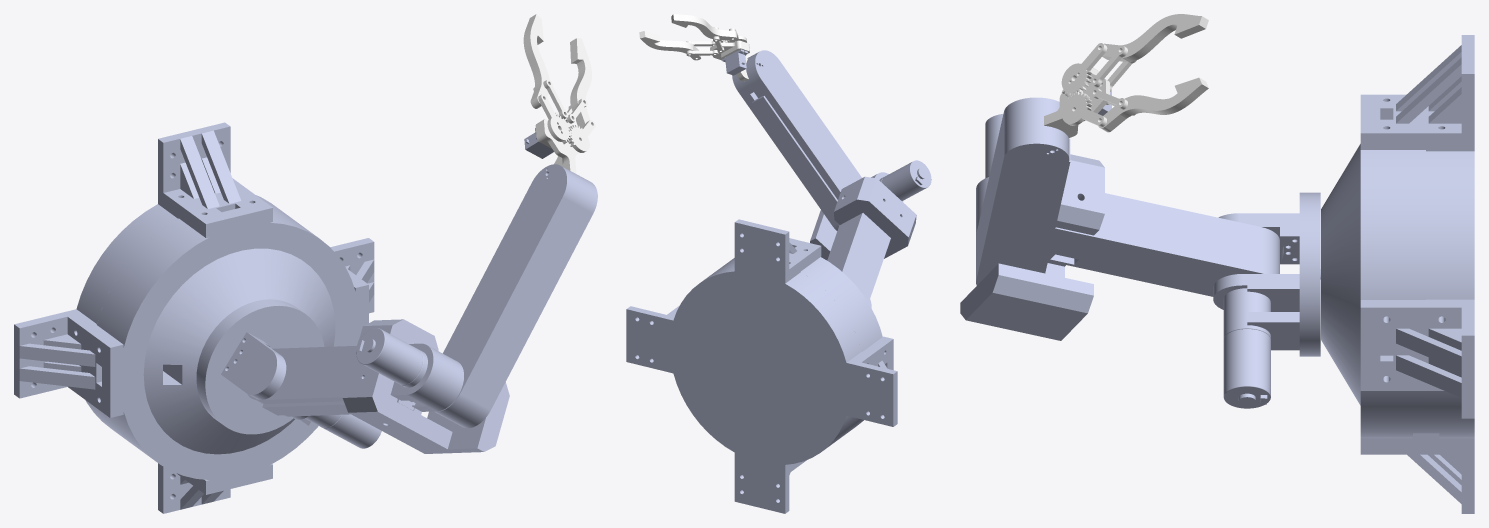
Rendered from Ensamble_Completo_de_diseño.glb.
3 views of the same model, side by side, from view 1: azimuth 30°, elevation 25°; view 2: azimuth 150°, elevation 25°; view 3: azimuth 270°, elevation 25° (orthographic). The views are drawn at different scales.
Parts seen in each view (by area): view 1: Base-1, Brazo tercer grado-1, Ensambles laterales base-4, Base segundo grado de libertad-1, Ensambles laterales base-3, encaje de tercer grado-1, Brazo segundo grado de libertad-1, Base sellado inferior a presion-1, Tapa 2grado-1, Motor con encoder-3, Ensambles laterales base-6, Ensambles laterales base-5 (+6 smaller); view 2: Base sellado inferior a presion-1, Brazo tercer grado-1, encaje de tercer grado-1, Ensambles laterales base-3, Ensambles laterales base-4, Brazo segundo grado de libertad-1, Base-1, Ensambles laterales base-6, Ensambles laterales base-5, Cierre eléctrico-1, Motor con encoder-3, Gripper 1-1 (+3 smaller); view 3: Base-1, Brazo segundo grado de libertad-1, Brazo tercer grado-1, Ensambles laterales base-5, encaje de tercer grado-1, Base sellado inferior a presion-1, Ensambles laterales base-3, Base segundo grado de libertad-1, Motor con encoder-2, Ensambles laterales base-6, Gripper 1-2, Gripper 1-1 (+5 smaller).
Part boxes in pixels (<box>): Base-1: <box>92,209,359,484</box>; Brazo tercer grado-1: <box>434,164,597,428</box>; Ensambles laterales base-4: <box>14,310,119,417</box>; Base segundo grado de libertad-1: <box>196,299,324,434</box>; Ensambles laterales base-3: <box>158,122,272,233</box>; encaje de tercer grado-1: <box>342,319,509,453</box>; Brazo segundo grado de libertad-1: <box>247,343,463,416</box>; Base sellado inferior a presion-1: <box>72,195,289,442</box>; Tapa 2grado-1: <box>221,332,286,399</box>; Motor con encoder-3: <box>355,328,427,387</box>; Ensambles laterales base-6: <box>158,463,272,513</box>; Ensambles laterales base-5: <box>330,238,374,337</box>; Base sellado inferior a presion-1: <box>669,263,864,468</box>; Brazo tercer grado-1: <box>732,50,861,230</box>; encaje de tercer grado-1: <box>810,176,916,260</box>; Ensambles laterales base-3: <box>734,219,821,279</box>; Ensambles laterales base-4: <box>850,337,897,426</box>; Brazo segundo grado de libertad-1: <box>827,172,903,298</box>; Base-1: <box>717,254,885,439</box>; Ensambles laterales base-6: <box>734,456,806,513</box>; Ensambles laterales base-5: <box>626,305,679,372</box>; Cierre eléctrico-1: <box>752,96,839,225</box>; Motor con encoder-3: <box>879,160,931,200</box>; Gripper 1-1: <box>671,14,737,40</box>; Base-1: <box>1321,144,1425,442</box>; Brazo segundo grado de libertad-1: <box>976,177,1279,296</box>; Brazo tercer grado-1: <box>976,97,1069,285</box>; Ensambles laterales base-5: <box>1360,302,1474,418</box>; encaje de tercer grado-1: <box>960,154,1104,340</box>; Base sellado inferior a presion-1: <box>1426,145,1474,442</box>; Ensambles laterales base-3: <box>1360,35,1474,145</box>; Base segundo grado de libertad-1: <box>1213,192,1320,356</box>; Motor con encoder-2: <box>1223,288,1270,408</box>; Ensambles laterales base-6: <box>1360,442,1474,513</box>; Gripper 1-2: <box>1098,77,1208,132</box>; Gripper 1-1: <box>1102,14,1208,62</box>.
Size of the model in its own units: 0.4722 by 0.5142 by 0.392.
